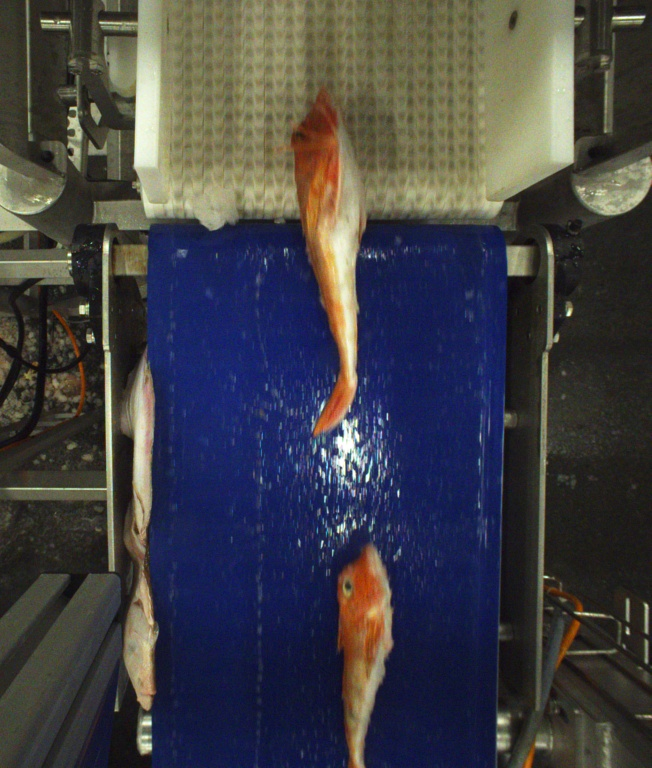GUU: (333, 543, 394, 768)
